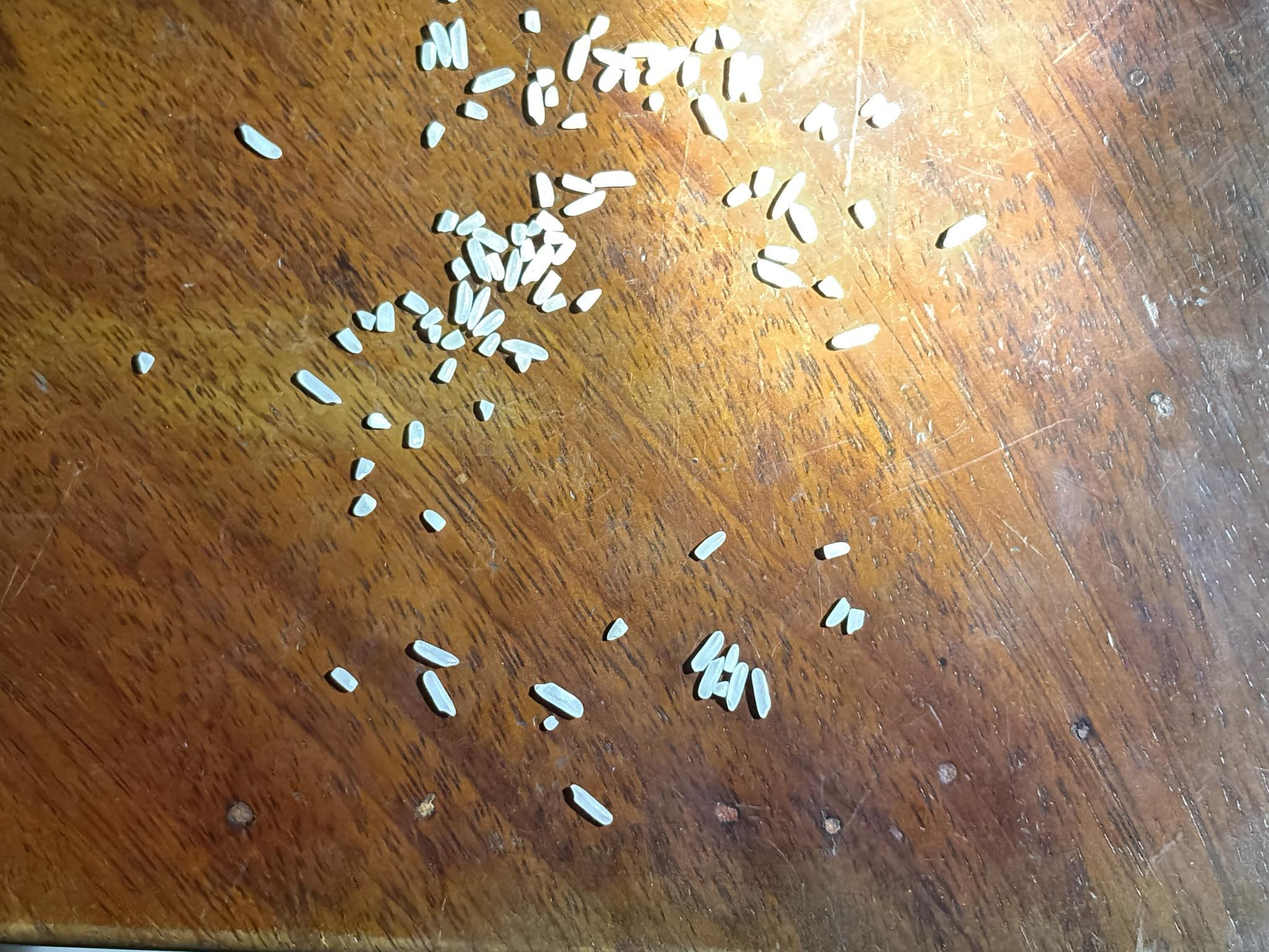Rice-th-y-nh: (535, 676, 584, 723), (644, 41, 690, 90), (768, 170, 809, 223), (569, 781, 613, 829), (831, 317, 881, 359), (942, 208, 987, 254), (755, 252, 802, 296), (419, 668, 459, 718), (695, 91, 732, 143), (519, 240, 558, 289), (470, 61, 516, 102), (442, 17, 476, 70), (562, 183, 607, 223), (689, 628, 727, 675), (562, 33, 597, 83), (720, 50, 753, 102), (593, 41, 639, 78), (737, 54, 771, 104), (745, 667, 777, 719), (722, 661, 754, 712), (296, 369, 341, 405), (787, 200, 822, 246), (503, 331, 549, 366), (240, 124, 283, 160), (462, 236, 494, 284), (425, 20, 457, 68), (412, 638, 459, 670), (694, 655, 727, 700), (590, 163, 637, 194), (625, 33, 669, 64), (464, 286, 494, 330), (449, 280, 478, 325), (521, 81, 550, 126), (531, 267, 563, 307), (499, 248, 528, 292), (472, 226, 510, 257), (801, 101, 836, 134), (560, 168, 596, 200), (763, 239, 800, 269), (870, 99, 903, 132), (693, 529, 727, 561), (531, 171, 559, 209), (749, 163, 778, 199), (471, 308, 505, 338), (851, 197, 880, 232), (678, 52, 705, 88), (824, 596, 852, 630), (817, 272, 847, 303), (372, 300, 399, 334), (596, 64, 625, 95), (574, 284, 603, 315), (455, 210, 487, 238), (859, 91, 889, 120), (715, 22, 744, 52), (725, 180, 753, 210), (551, 237, 578, 268), (693, 25, 720, 56), (482, 250, 508, 282), (534, 208, 565, 234), (720, 642, 743, 675), (822, 537, 850, 564), (560, 109, 590, 134), (424, 119, 448, 150), (417, 40, 440, 72), (336, 327, 363, 354), (462, 97, 489, 124), (331, 666, 359, 692), (402, 290, 430, 315), (441, 327, 467, 353), (541, 291, 569, 315), (844, 607, 867, 636), (588, 13, 611, 42), (477, 332, 502, 358), (352, 493, 378, 518), (819, 115, 842, 143), (436, 209, 461, 234), (419, 306, 445, 330), (621, 66, 644, 93), (406, 421, 427, 450), (422, 508, 447, 532), (542, 228, 570, 249), (533, 65, 557, 89), (606, 617, 629, 642), (517, 237, 539, 263), (450, 256, 472, 282), (437, 357, 459, 383), (354, 456, 376, 481), (508, 221, 529, 247), (354, 309, 377, 332), (522, 9, 544, 33), (542, 84, 562, 110), (513, 351, 534, 374), (135, 351, 156, 374), (366, 412, 392, 430), (711, 679, 731, 700), (647, 90, 666, 112), (478, 399, 496, 421), (426, 323, 444, 344), (526, 219, 544, 239), (542, 714, 560, 732)
